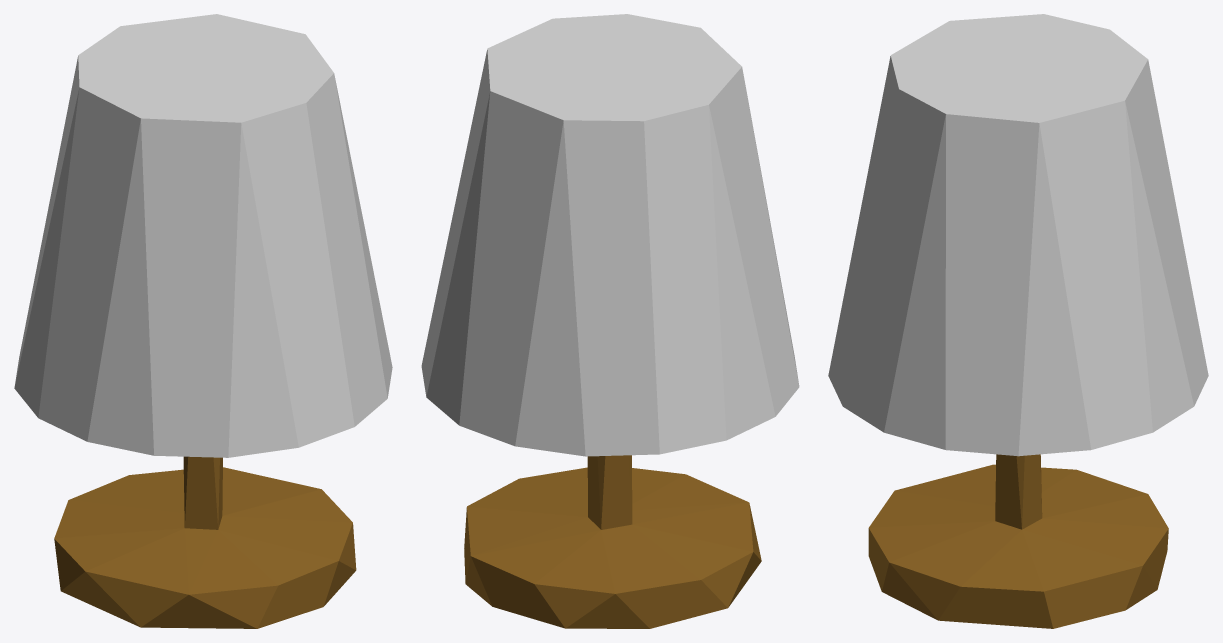
Rendered from LAMP_02.fbx.
3 views of the same model, side by side, from view 1: azimuth 30°, elevation 25°; view 2: azimuth 150°, elevation 25°; view 3: azimuth 270°, elevation 25° (orthographic).
Parts seen in each view (by area): view 1: LAMP_02; view 2: LAMP_02; view 3: LAMP_02.
Boxes of the visible parts, x1,y1,x2,y2 form: LAMP_02: (14, 14, 392, 628); LAMP_02: (421, 14, 799, 628); LAMP_02: (828, 14, 1208, 628).
Size of the model in its own units: 21.21 by 30.68 by 21.21.
